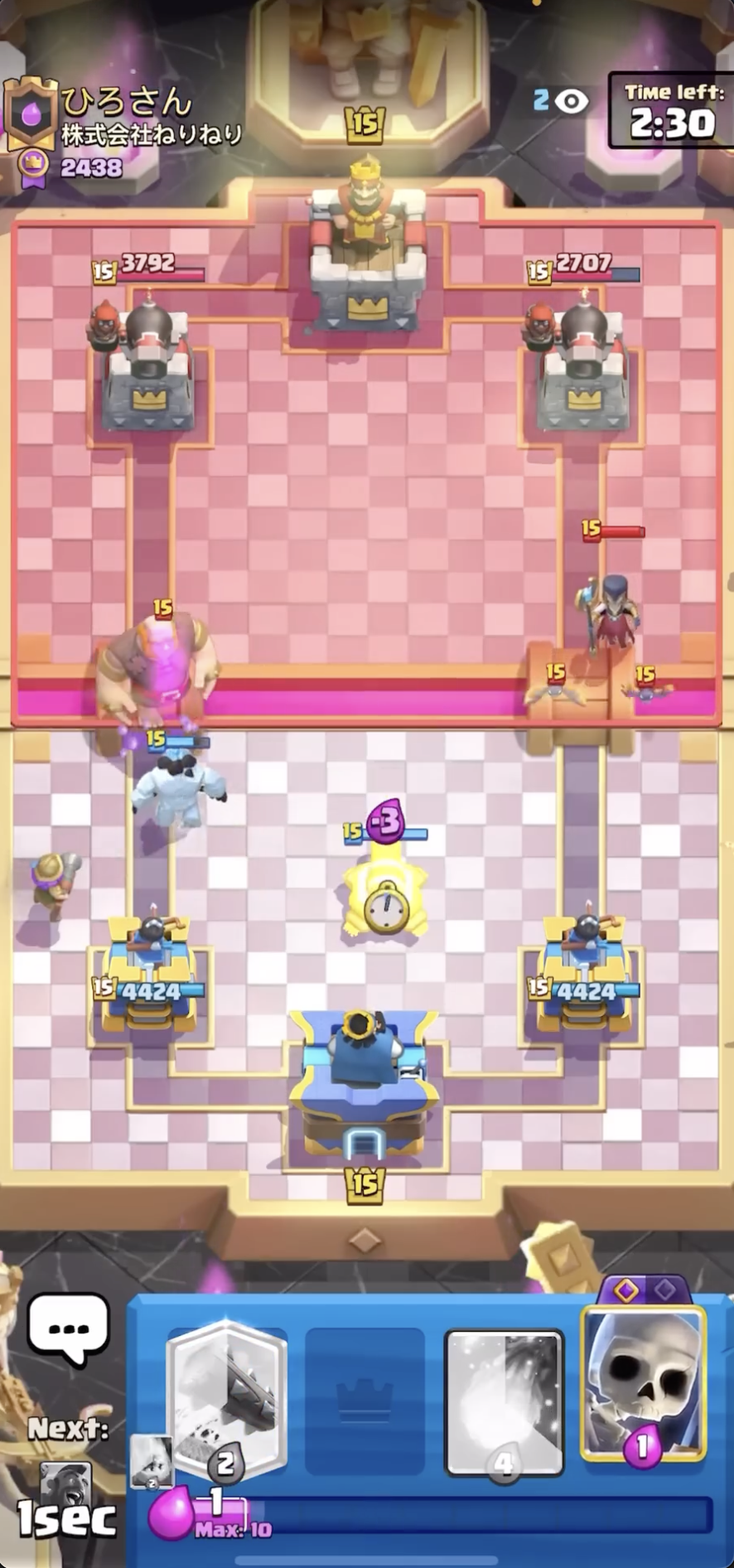bats: (518, 659, 599, 713), (619, 664, 685, 702)
giant: (89, 578, 232, 734)
